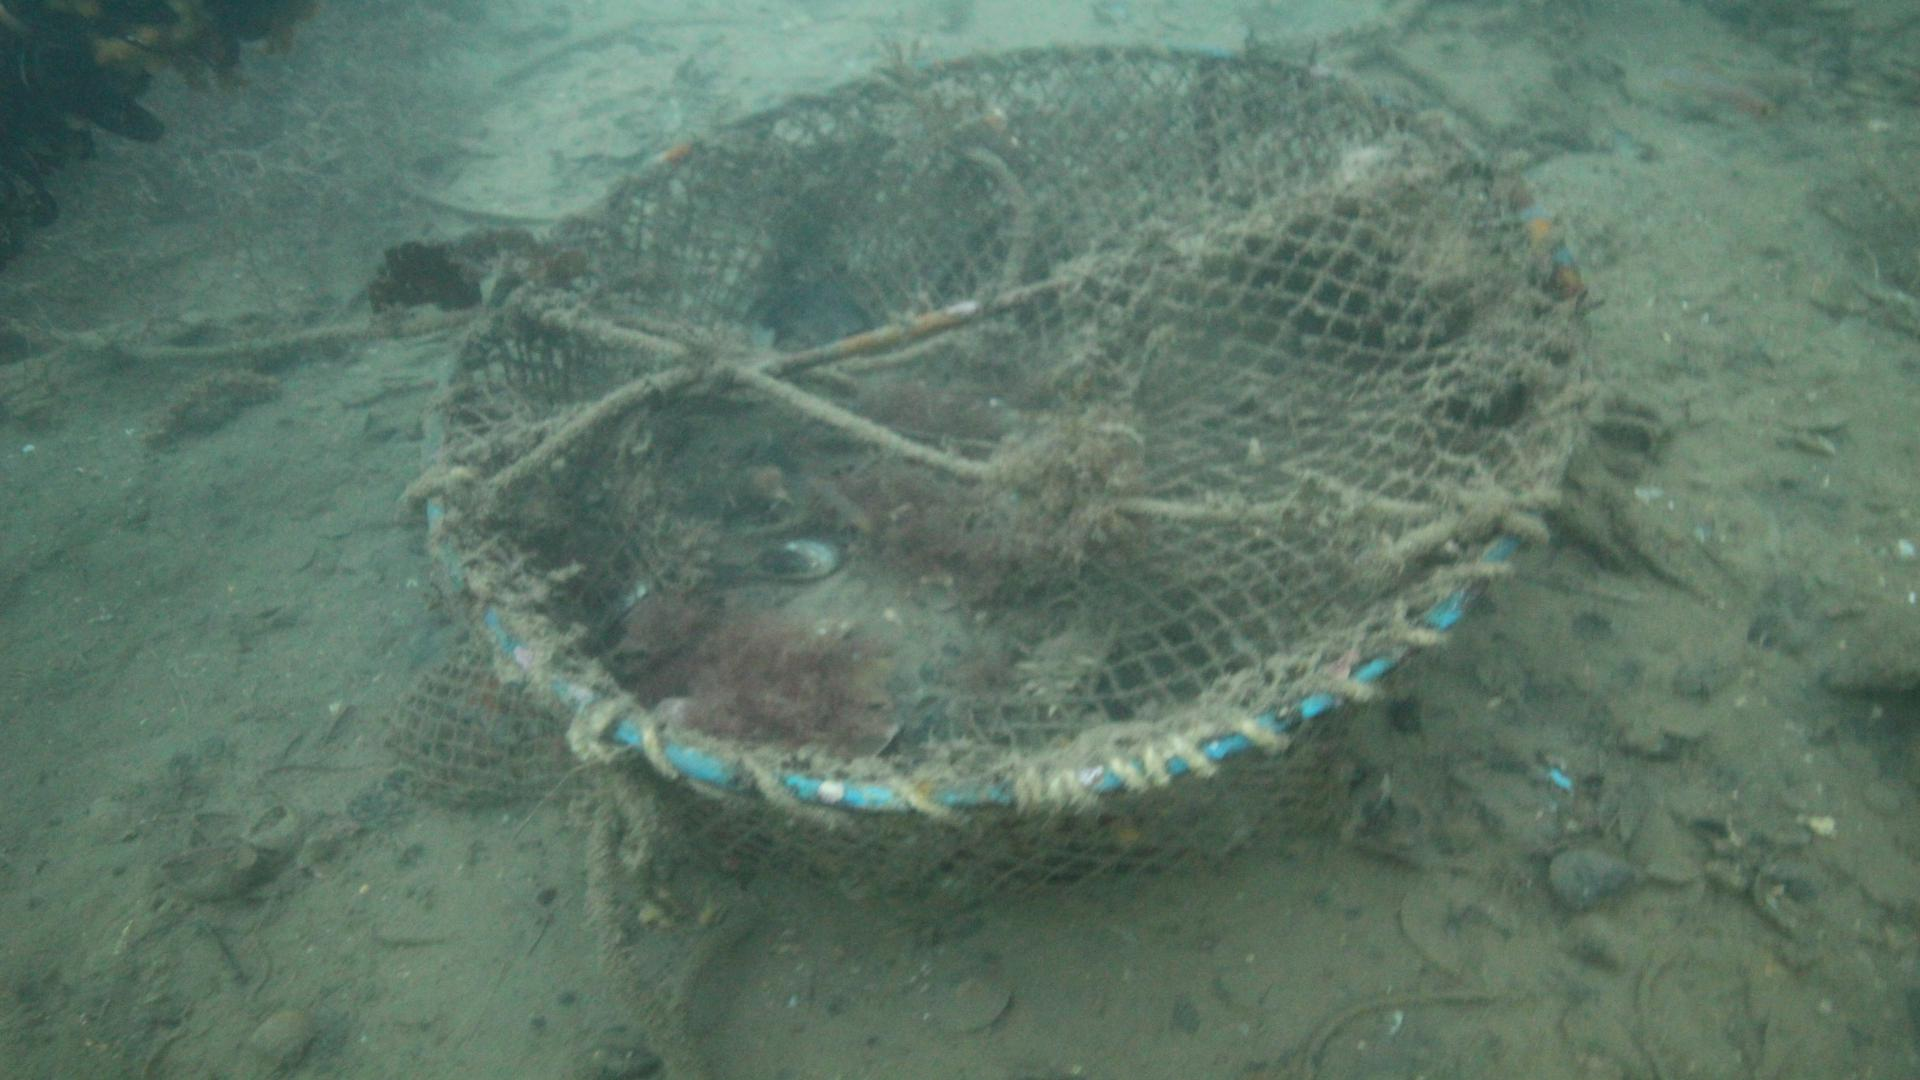circular fish trap: (418, 32, 1596, 899)
